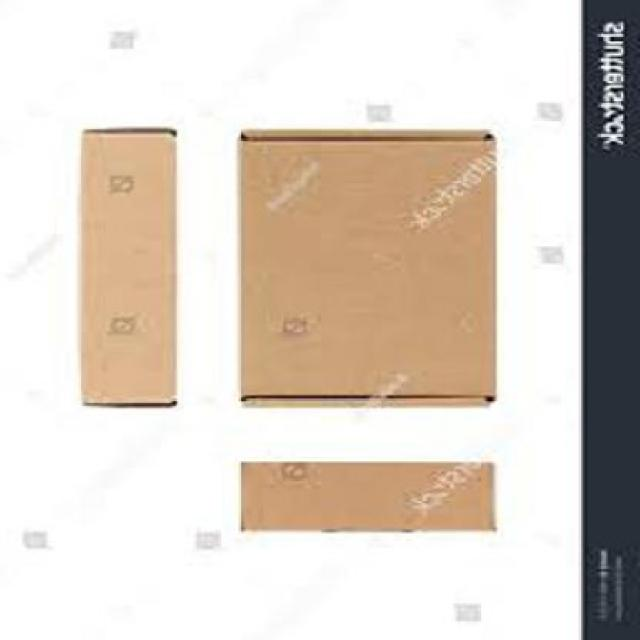normal: (232, 124, 510, 410), (69, 126, 189, 431), (234, 458, 511, 540)
